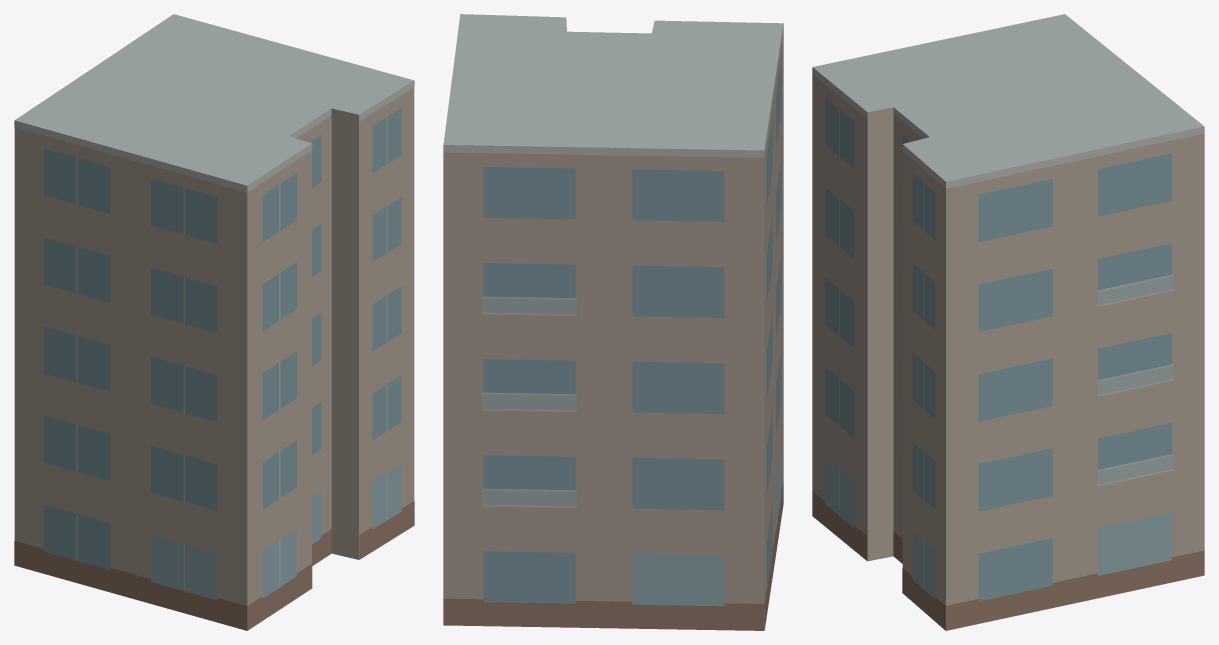
Rendered from survey-upis-32841244.glb.
The picture shows the model from 3 angles, left to right: view 1: azimuth 30°, elevation 25°; view 2: azimuth 150°, elevation 25°; view 3: azimuth 270°, elevation 25°; orthographic projection. The views are drawn at different scales.
Visible parts, largest first — view 1: survey-upis-32841244.tmp; view 2: survey-upis-32841244.tmp; view 3: survey-upis-32841244.tmp.
Boxes of the visible parts, x1=… form: survey-upis-32841244.tmp: x1=14, y1=14, x2=414, y2=630; survey-upis-32841244.tmp: x1=443, y1=14, x2=783, y2=630; survey-upis-32841244.tmp: x1=812, y1=14, x2=1204, y2=630.
Bounding box in the file's own units: 12.59 × 15.7 × 12.43.
